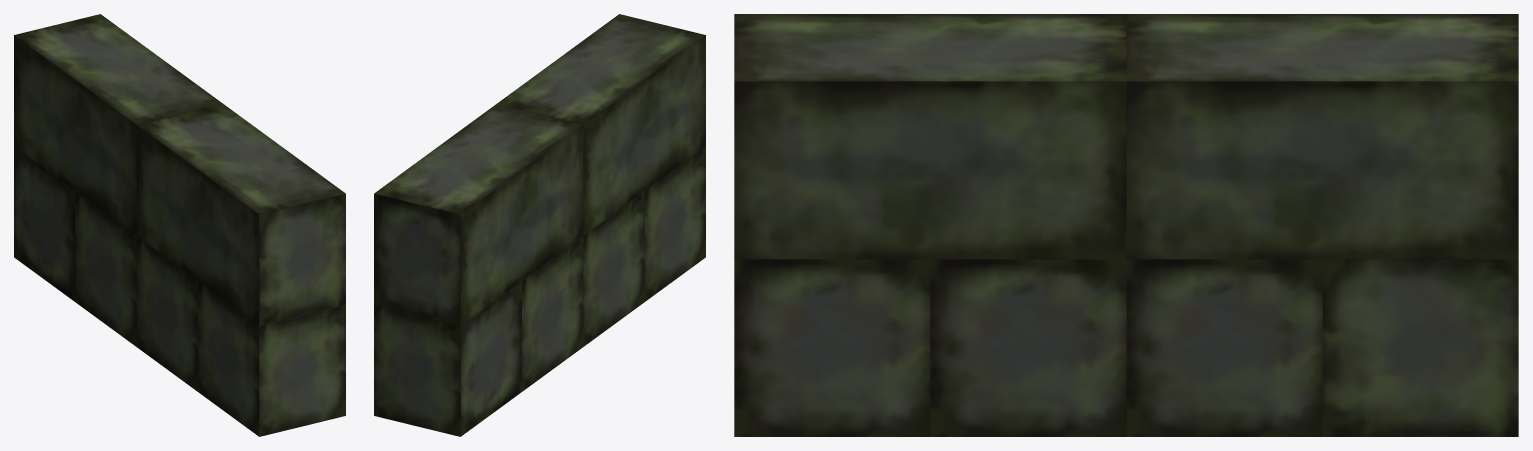
File: wall-small-02.fbx
3 renders of one model, left to right at view 1: azimuth 30°, elevation 25°; view 2: azimuth 150°, elevation 25°; view 3: azimuth 270°, elevation 25°, orthographic. The views are drawn at different scales.
Visible parts, largest first — view 1: wall_small_2; view 2: wall_small_2; view 3: wall_small_2.
Part boxes in pixels (box(x1,y1,x2,y2)): wall_small_2: box(14, 14, 345, 436); wall_small_2: box(374, 14, 705, 436); wall_small_2: box(734, 14, 1518, 436).
Bounding box in the file's own units: 81.41 × 200 × 400.
